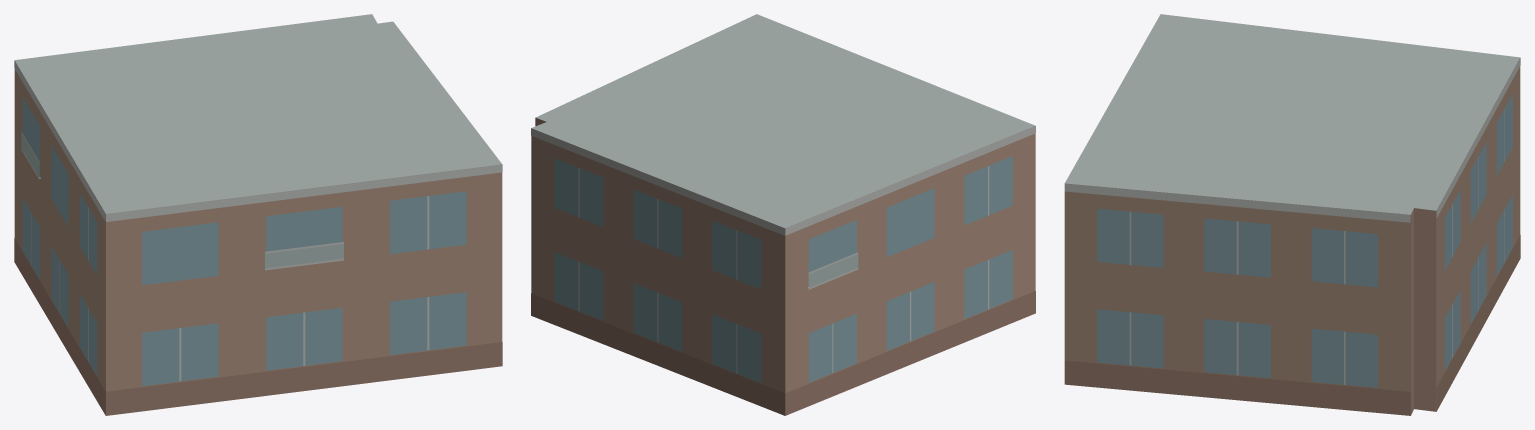
The model's file is survey-upis-32672126.glb.
3 views of the same model, side by side, from view 1: azimuth 30°, elevation 25°; view 2: azimuth 150°, elevation 25°; view 3: azimuth 270°, elevation 25° (orthographic). The views are drawn at different scales.
Visible parts, largest first — view 1: survey-upis-32672126.tmp; view 2: survey-upis-32672126.tmp; view 3: survey-upis-32672126.tmp.
Boxes of the visible parts, bbox=[...] form: survey-upis-32672126.tmp: bbox=[14, 14, 502, 415]; survey-upis-32672126.tmp: bbox=[531, 14, 1035, 415]; survey-upis-32672126.tmp: bbox=[1064, 14, 1520, 415].
Bounding box in the file's own units: 13.07 × 6.1 × 12.54.
